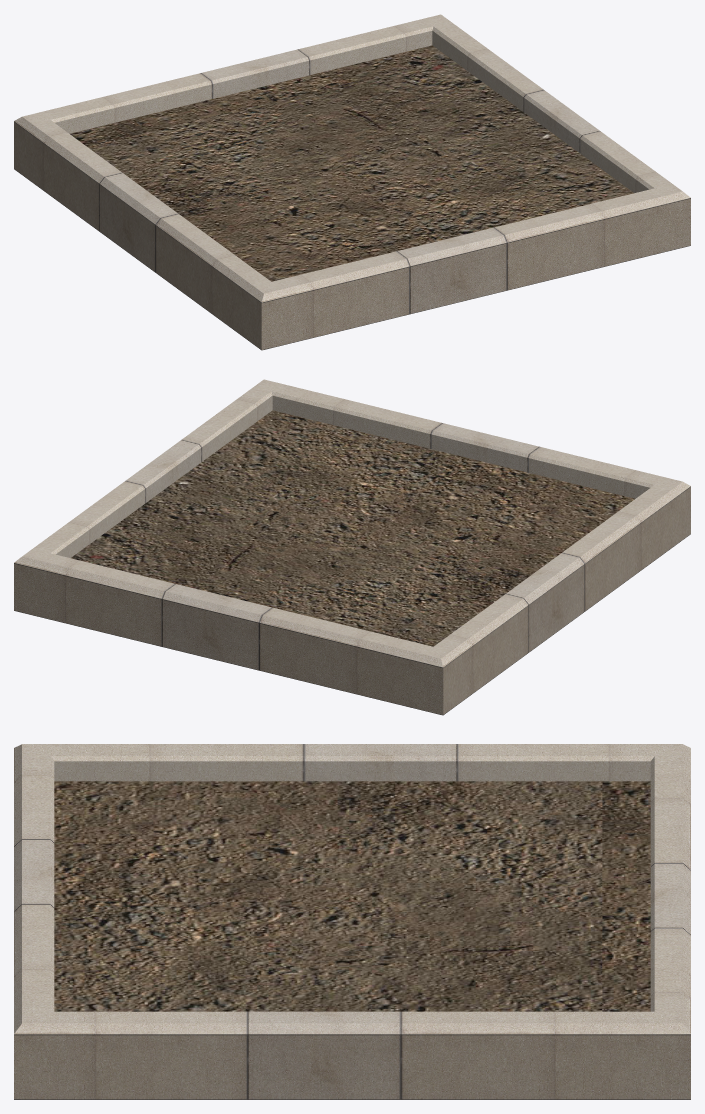
The model's file is shukeng.fbx.
The picture shows the model from 3 angles, top to bottom: view 1: azimuth 30°, elevation 25°; view 2: azimuth 150°, elevation 25°; view 3: azimuth 270°, elevation 25°; orthographic projection. The views are drawn at different scales.
Visible parts, largest first — view 1: polySurface2; view 2: polySurface2; view 3: polySurface2.
Boxes of the visible parts, left/top/right/bottom form: polySurface2: left=14, top=14, right=690, bottom=350; polySurface2: left=14, top=379, right=690, bottom=715; polySurface2: left=14, top=744, right=690, bottom=1099.
Bounding box in the file's own units: 14.41 × 1.71 × 14.41.
Materials: 2 (2 with a texture image).
